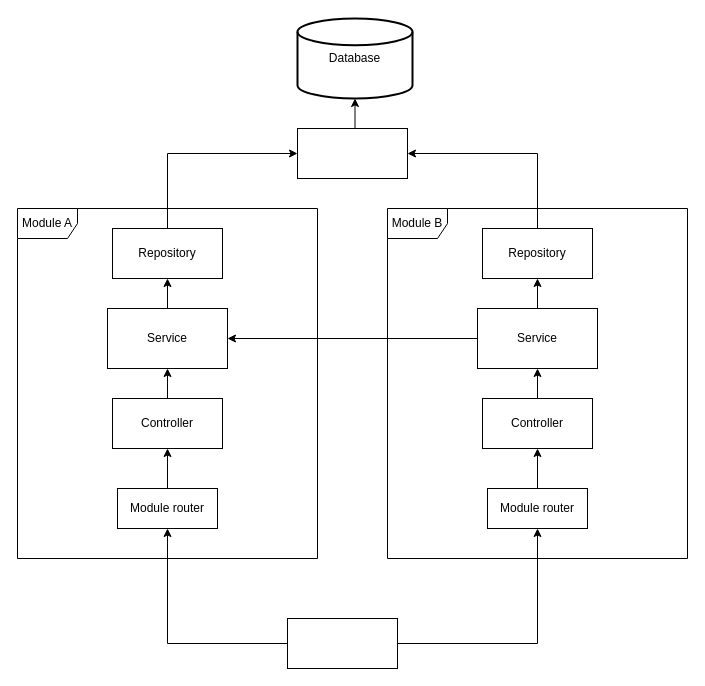
This 705x686 diagram has some shape labels left out. Each missing label, with the centre of its shape:
Application router: (x=342, y=643)
Database adapter: (x=352, y=153)
